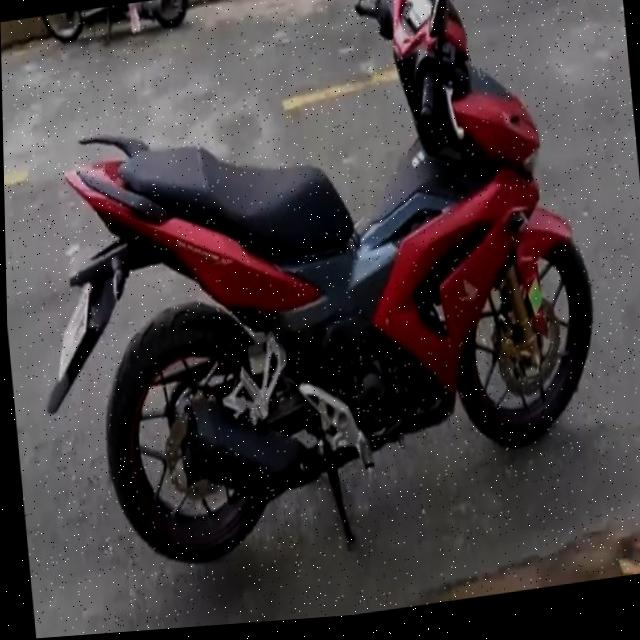motorcycle: (10, 0, 625, 599)
